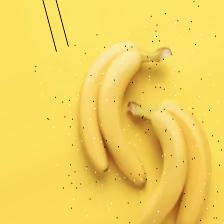banana: (43, 30, 201, 199)
